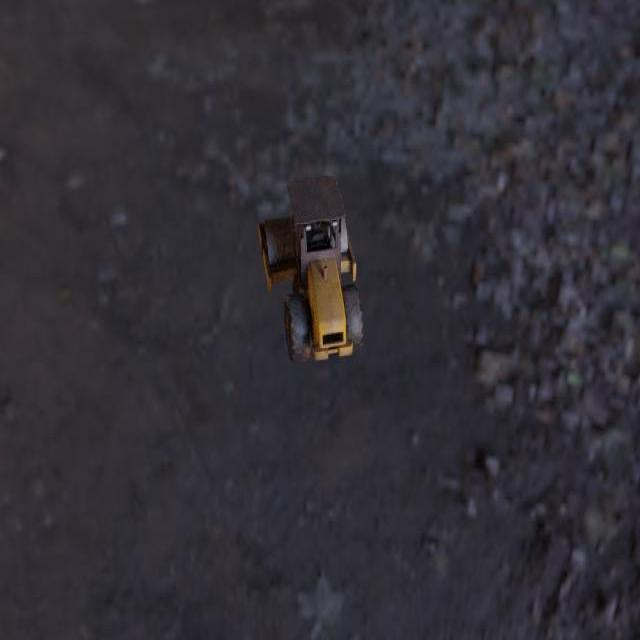Roller: (257, 173, 363, 363)
